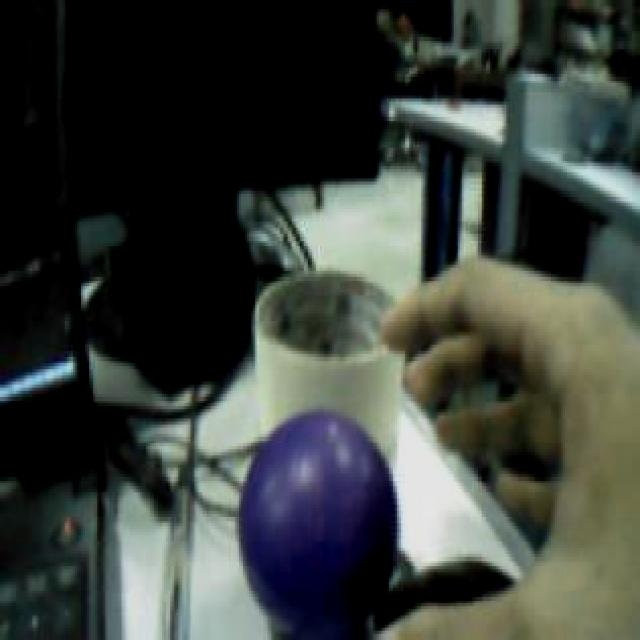BallPurple: (237, 410, 399, 630)
